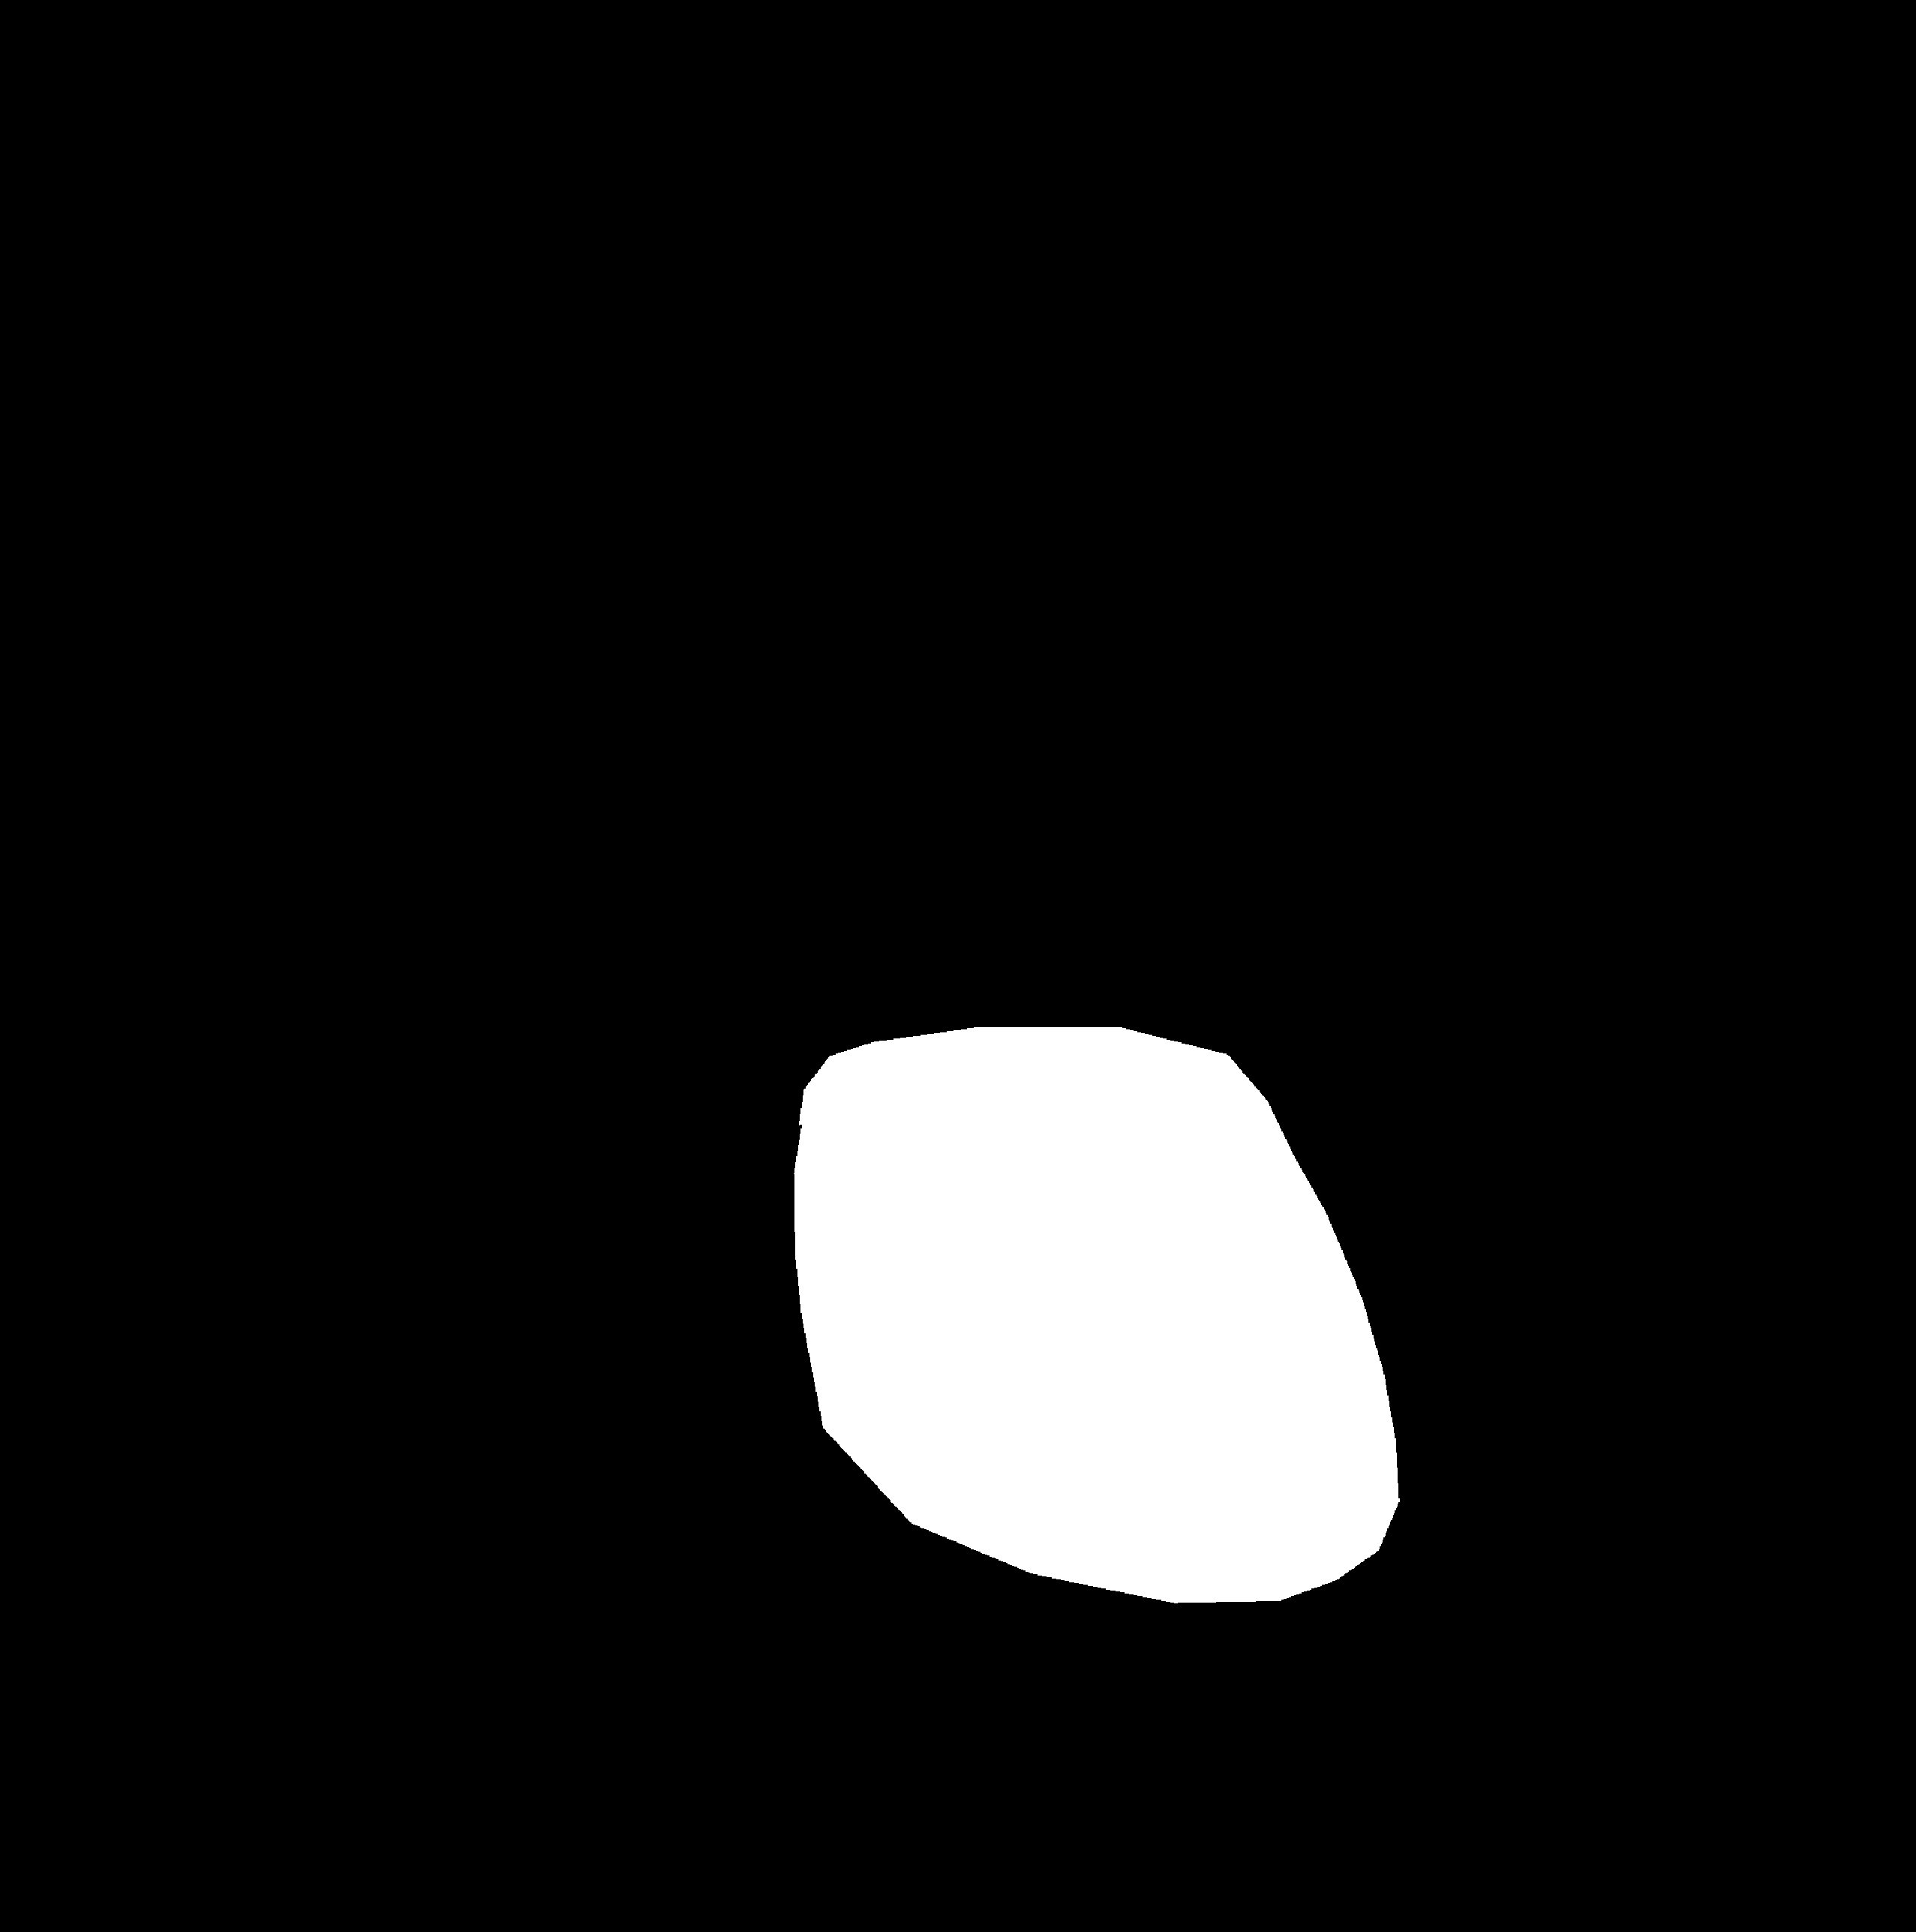heart: (793, 1028, 1404, 1690)
left_lung: (116, 219, 823, 1890)
right_lung: (986, 214, 1781, 1892)
